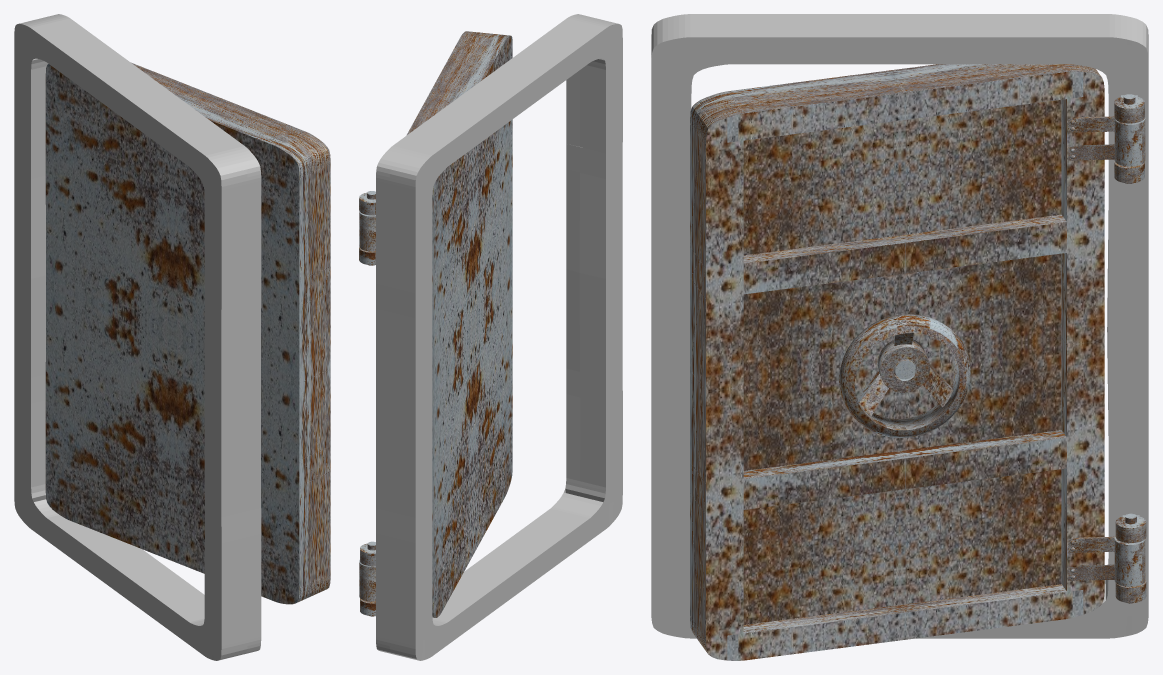
File: Door anim prototip.fbx
3 renders of one model, left to right at view 1: azimuth 30°, elevation 25°; view 2: azimuth 150°, elevation 25°; view 3: azimuth 270°, elevation 25°, orthographic. The views are drawn at different scales.
Visible parts, largest first — view 1: Cube, Cube.001; view 2: Cube.001, Cube, Cylinder.001, Sphere.004, Sphere.000, Cylinder.002; view 3: Cube, Cube.001, Cylinder, Sphere.000, Sphere.004, Cylinder.002, Cylinder.001.
Part boxes in pixels (x1,y1,x2,y2): Cube: (45,62,330,604); Cube.001: (14,14,261,660); Cube.001: (376,14,622,660); Cube: (406,31,512,617); Cylinder.001: (359,191,375,265); Sphere.004: (359,211,375,251); Sphere.000: (359,560,375,601); Cylinder.002: (360,541,375,616); Cube: (690,64,1104,660); Cube.001: (651,14,1148,638); Cylinder: (839,314,970,437); Sphere.000: (1068,536,1145,586); Sphere.004: (1068,116,1145,166); Cylinder.002: (1115,513,1146,603); Cylinder.001: (1114,94,1144,183).
Bounding box in the file's own units: 1196 × 4339 × 3254.
